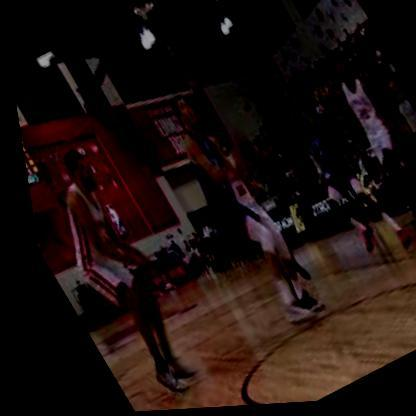basketball: (218, 133, 257, 177)
